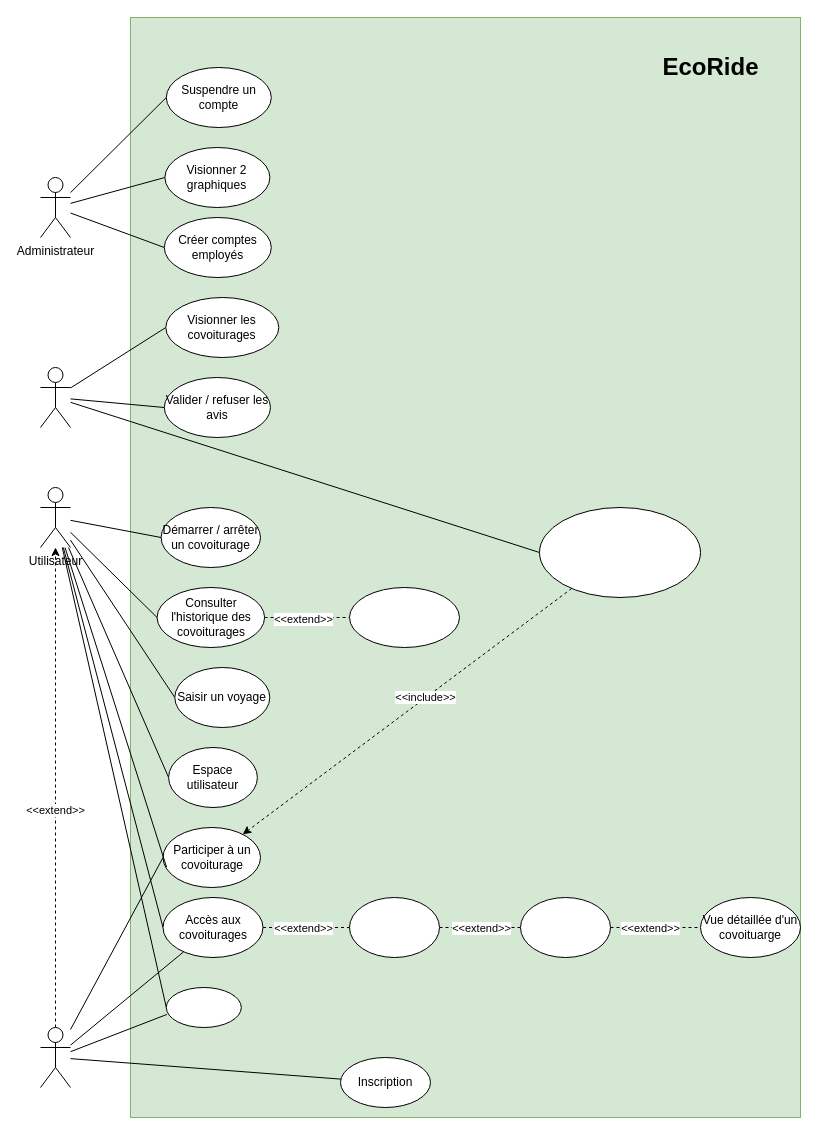
This 818x1135 diagram has some shape labels left out. Each missing label, with the box of its shape:
Annuler un covoiturage: (348, 586, 460, 648)
Connexion: (538, 506, 700, 598)
Contact: (165, 986, 241, 1028)
Employé: (40, 366, 70, 428)
Filtre des cocoiturages: (520, 896, 610, 958)
Visiteur: (40, 1026, 70, 1088)
Vue des covoiturages: (348, 896, 440, 958)
